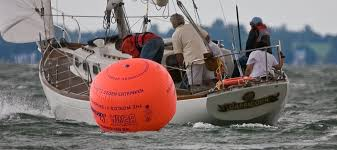buoy: (89, 58, 178, 133)
